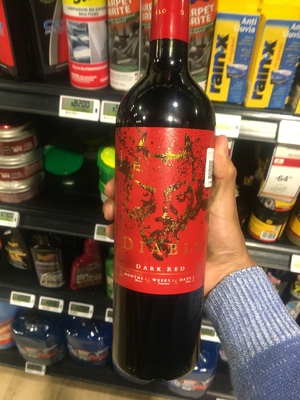diablo dark red: (106, 1, 226, 360)
